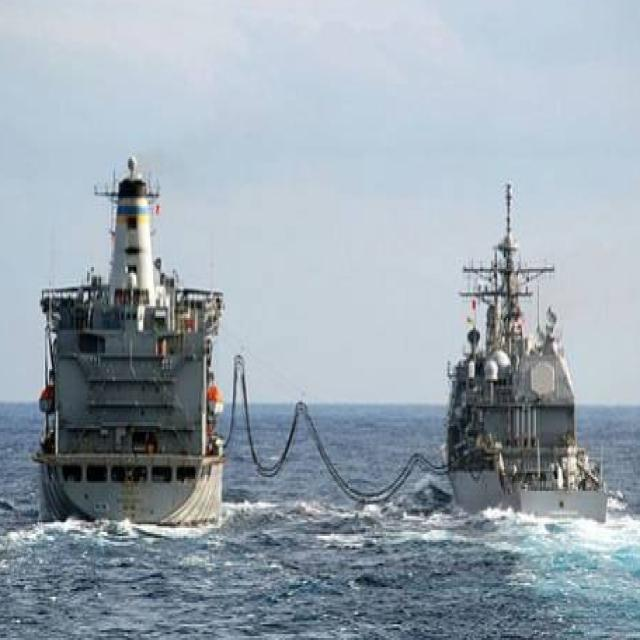navalvessels: (16, 160, 278, 538), (400, 216, 602, 540)
